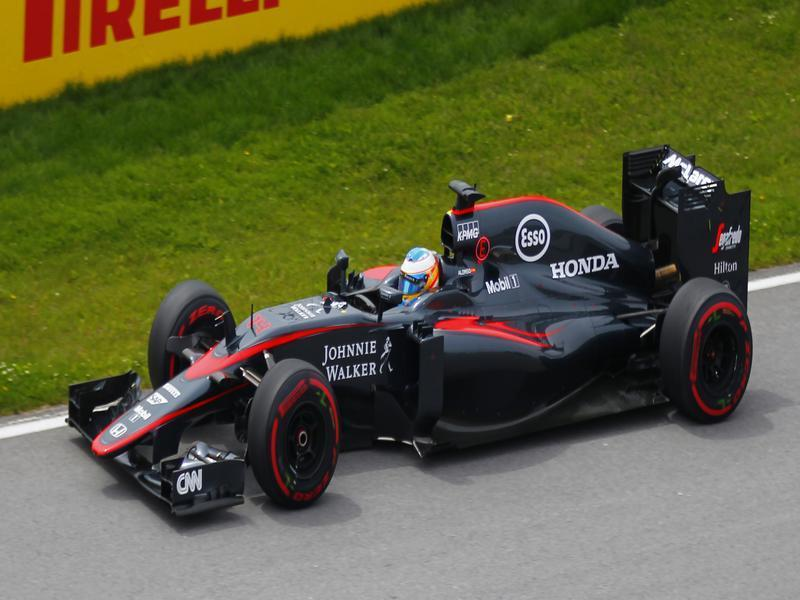f1: (69, 157, 791, 493)
